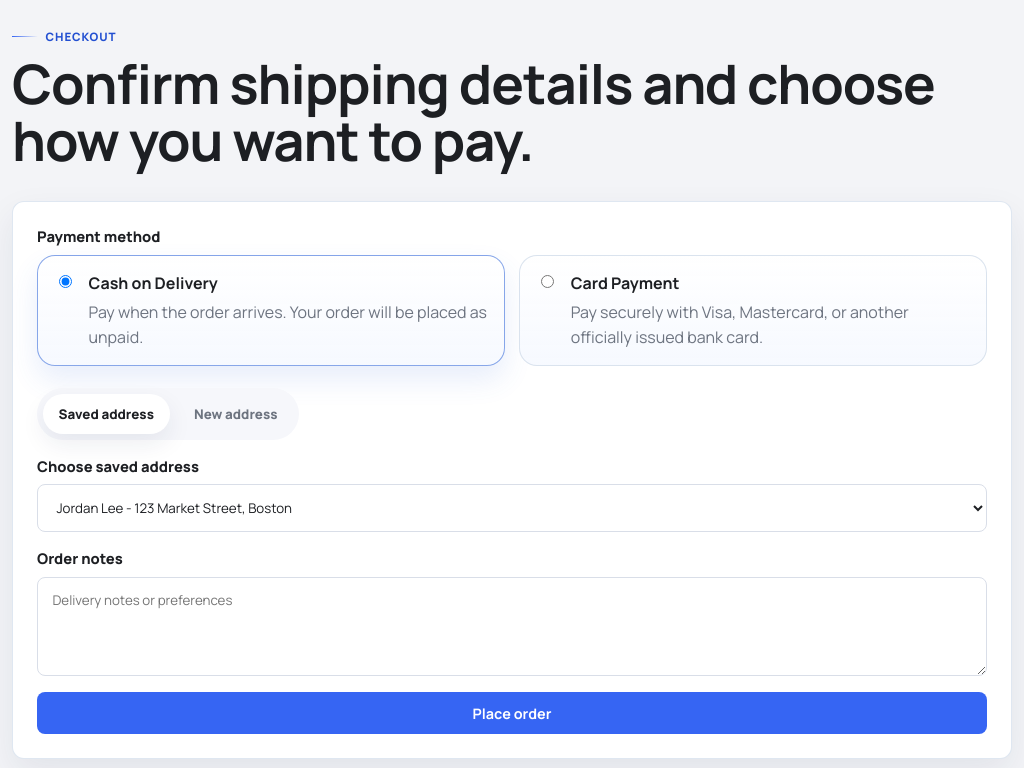
Test: places a COD order successfully
Click the button "Place order" at (512, 713), box top-left (37, 692), bottom-right (987, 734)
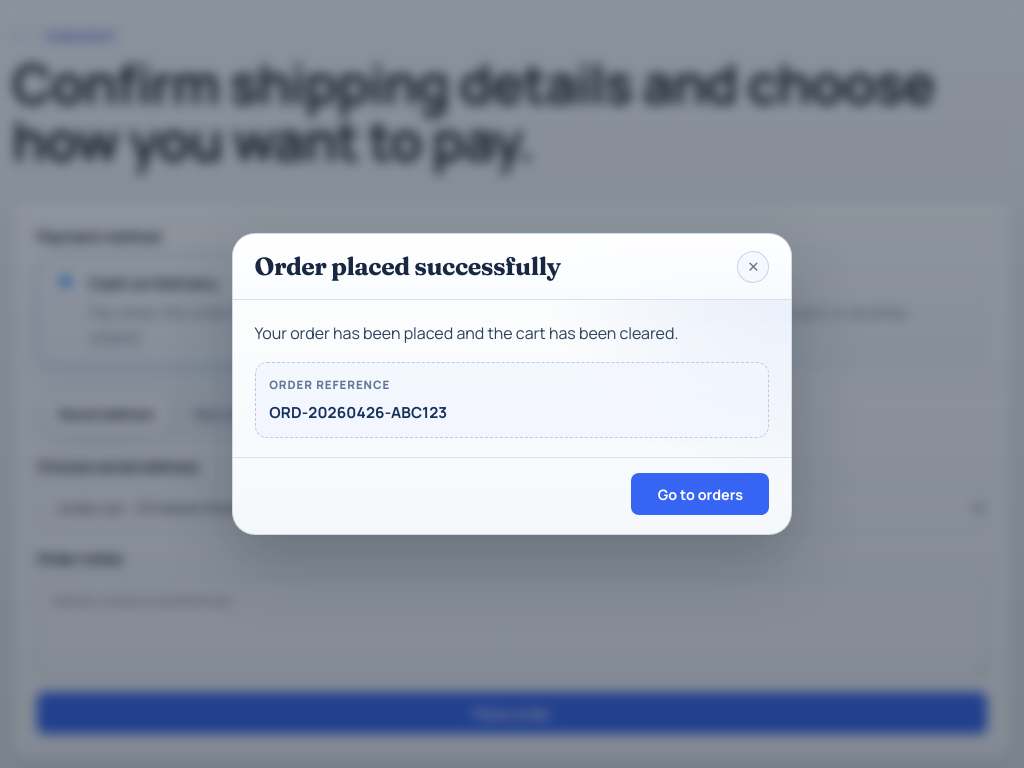
Result: the heading "Order placed successfully" is shown at top-left (255, 253), bottom-right (560, 280)
